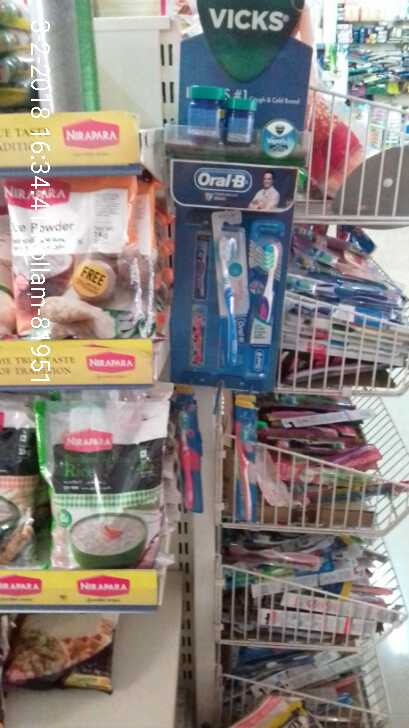pharmacy: (247, 229, 287, 375), (181, 82, 261, 151), (214, 228, 245, 373)
